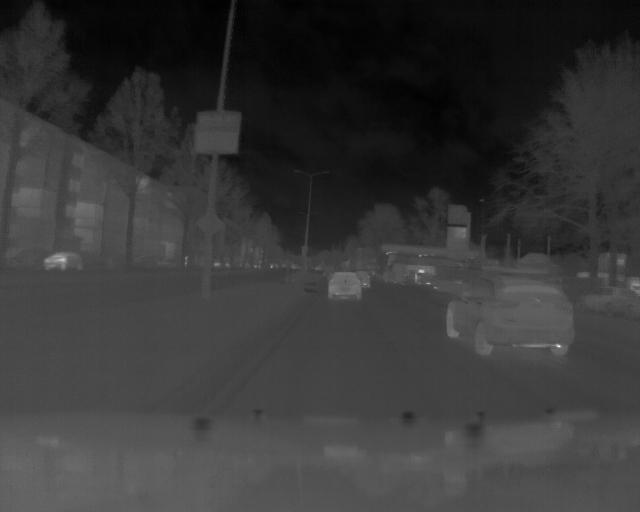car: (443, 270, 578, 358), (325, 267, 362, 299), (42, 251, 86, 271)
